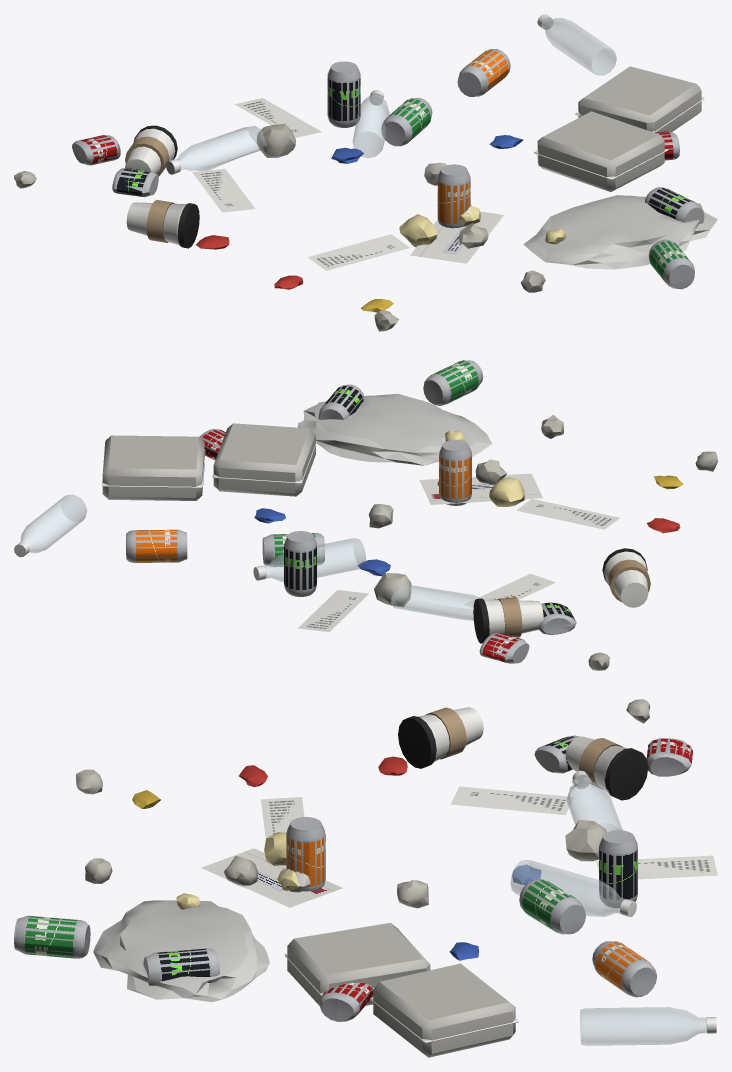
Rendered from litter_spread_a.glb.
3 views of the same model, one above another, from view 1: azimuth 30°, elevation 25°; view 2: azimuth 150°, elevation 25°; view 3: azimuth 270°, elevation 25° (orthographic). The views are drawn at different scales.
Visible parts, largest first — view 1: body, panels, glass; view 2: body, panels, glass; view 3: body, panels, glass.
Part boxes in pixels (x1=…): body: x1=14, y1=14, x2=717, y2=331; panels: x1=80, y1=49, x2=696, y2=282; glass: x1=176, y1=18, x2=616, y2=170; body: x1=14, y1=360, x2=717, y2=670; panels: x1=134, y1=360, x2=620, y2=662; glass: x1=20, y1=494, x2=480, y2=620; body: x1=14, y1=699, x2=716, y2=1057; panels: x1=23, y1=736, x2=717, y2=1019; glass: x1=510, y1=777, x2=706, y2=1045.
Size of the model in its own units: 1.38 by 0.1302 by 1.19.
Materials: 14 (1 with a texture image).
